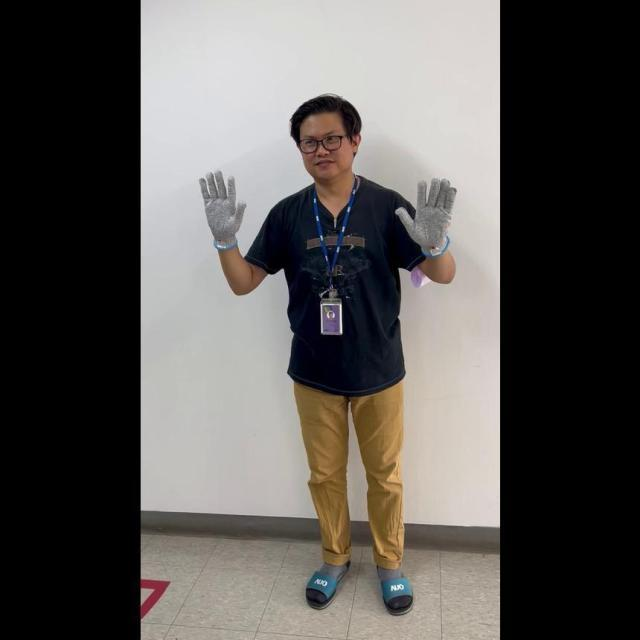gloved_hand: (393, 173, 455, 257), (197, 163, 248, 246)
